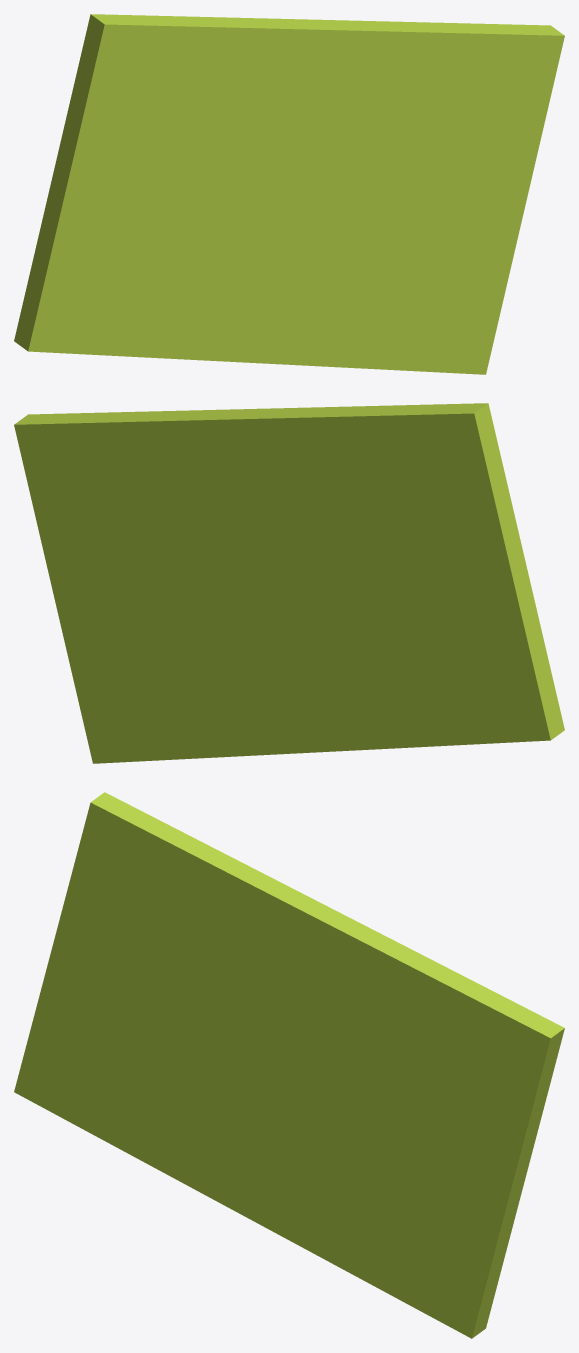
3 renders of one model, top to bottom at view 1: azimuth 30°, elevation 25°; view 2: azimuth 150°, elevation 25°; view 3: azimuth 330°, elevation 25°, orthographic.
Parts seen in each view (by area): view 1: osm-way27917482-F3; view 2: osm-way27917482-F3; view 3: osm-way27917482-F3.
Boxes of the visible parts, <box> form: osm-way27917482-F3: <box>14,14,564,374</box>; osm-way27917482-F3: <box>14,403,564,763</box>; osm-way27917482-F3: <box>14,792,564,1338</box>.
Bounding box in the file's own units: 3.28 × 2.59 × 0.15.
